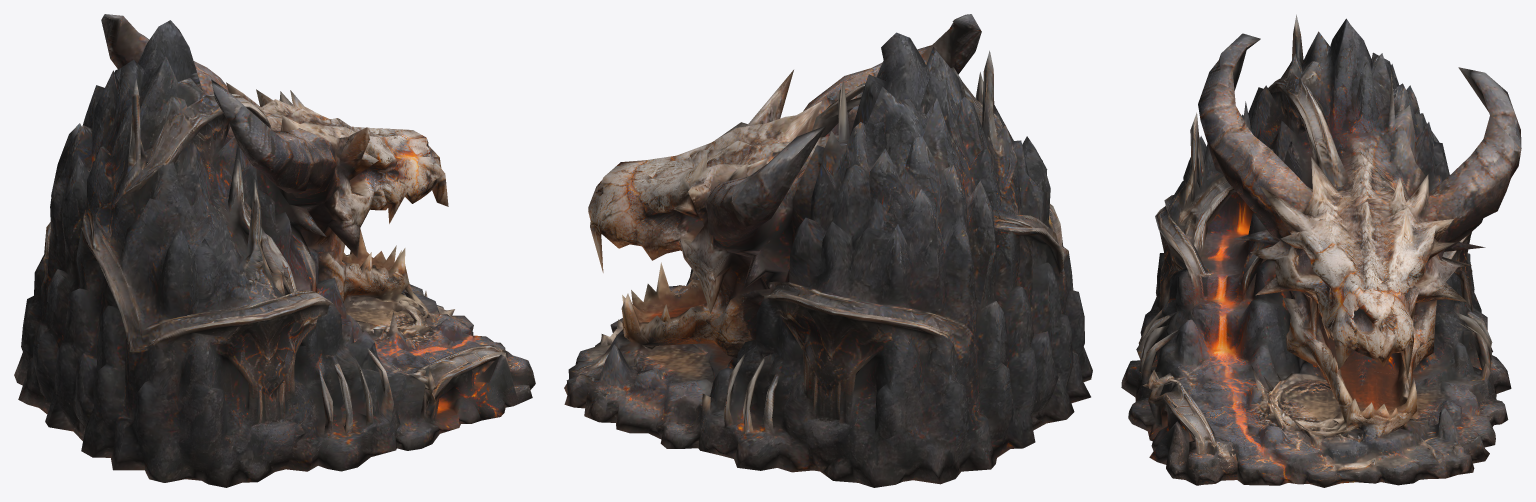
File: env_ro_skull.glb
3 views of the same model, side by side, from view 1: azimuth 30°, elevation 25°; view 2: azimuth 150°, elevation 25°; view 3: azimuth 270°, elevation 25° (orthographic). The views are drawn at different scales.
Visible parts, largest first — view 1: tripo_node_89507927-ad5a-4c5e-b348-686c668ad3d5; view 2: tripo_node_89507927-ad5a-4c5e-b348-686c668ad3d5; view 3: tripo_node_89507927-ad5a-4c5e-b348-686c668ad3d5.
Boxes of the visible parts, <box> form: tripo_node_89507927-ad5a-4c5e-b348-686c668ad3d5: <box>14,14,535,487</box>; tripo_node_89507927-ad5a-4c5e-b348-686c668ad3d5: <box>564,14,1092,487</box>; tripo_node_89507927-ad5a-4c5e-b348-686c668ad3d5: <box>1121,14,1521,487</box>.
Size of the model in its own units: 1 by 0.8562 by 0.9157.
1 material, 1 textured.
